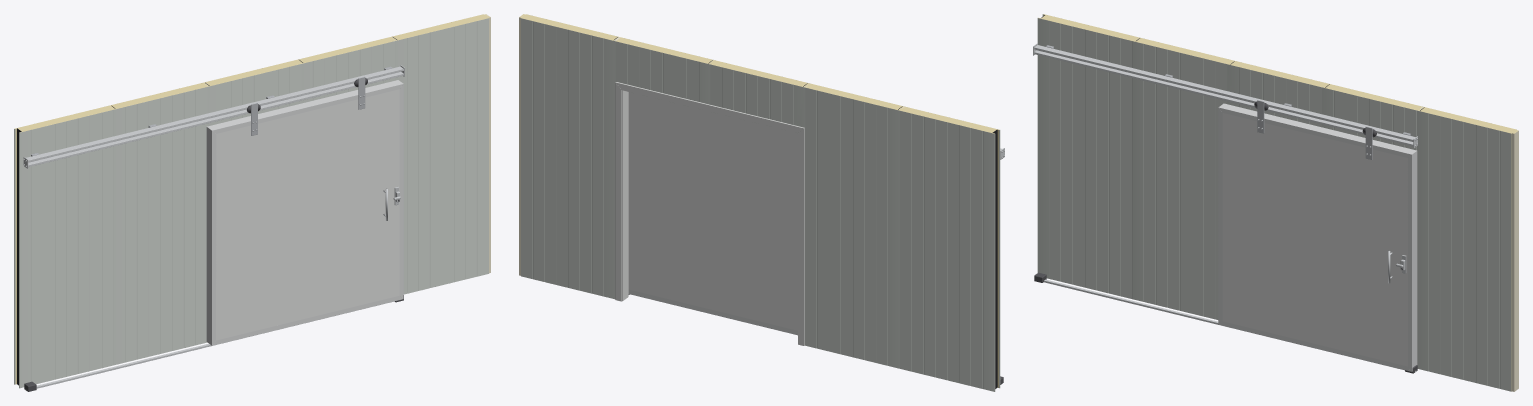
File: sliding-6x7.glb
The picture shows the model from 3 angles, left to right: view 1: azimuth 30°, elevation 25°; view 2: azimuth 150°, elevation 25°; view 3: azimuth 330°, elevation 25°; orthographic projection.
Parts seen in each view (by area): view 1: SkinF, Wall_p0_Steel_top, Wall_p1_Steel_top, Wall_p4_Steel_top, Wall_p2_Steel_top, Wall_p3_Steel_top, RailTop, RailBot, AluWebL, Wall_p0_PIR_core, AluWebT, AluF_R (+11 smaller); view 2: SkinB, Wall_p0_Steel_bottom, Wall_p4_Steel_bottom, Wall_p1_Steel_bottom, Wall_p2_Steel_bottom, Wall_p3_Steel_bottom, TrimB_R, TrimB_L, LinerR, TrimB_T, Wall_p0_PIR_core, AluB_B (+7 smaller); view 3: SkinF, Wall_p4_Steel_top, Wall_p0_Steel_top, Wall_p1_Steel_top, Wall_p2_Steel_top, Wall_p3_Steel_top, RailTop, RailBot, Wall_p4_Tongue_tape, AluWebR, AluWebT, AluF_L (+10 smaller).
Part boxes in pixels (left/top/right/bottom): SkinF: left=216, top=89, right=399, bottom=340; Wall_p0_Steel_top: left=19, top=110, right=113, bottom=388; Wall_p1_Steel_top: left=113, top=87, right=207, bottom=365; Wall_p4_Steel_top: left=395, top=18, right=488, bottom=294; Wall_p2_Steel_top: left=207, top=64, right=301, bottom=126; Wall_p3_Steel_top: left=301, top=41, right=394, bottom=103; RailTop: left=26, top=66, right=403, bottom=162; RailBot: left=28, top=72, right=403, bottom=166; AluWebL: left=206, top=127, right=212, bottom=345; Wall_p0_PIR_core: left=14, top=106, right=114, bottom=384; AluWebT: left=207, top=80, right=403, bottom=130; AluF_R: left=399, top=84, right=403, bottom=298; SkinB: left=628, top=92, right=797, bottom=330; Wall_p0_Steel_bottom: left=900, top=110, right=995, bottom=391; Wall_p4_Steel_bottom: left=521, top=18, right=615, bottom=299; Wall_p1_Steel_bottom: left=805, top=87, right=899, bottom=368; Wall_p2_Steel_bottom: left=710, top=64, right=805, bottom=345; Wall_p3_Steel_bottom: left=615, top=41, right=710, bottom=104; TrimB_R: left=615, top=82, right=622, bottom=301; TrimB_L: left=798, top=128, right=804, bottom=345; LinerR: left=622, top=90, right=628, bottom=300; TrimB_T: left=615, top=82, right=804, bottom=132; Wall_p0_PIR_core: left=898, top=106, right=999, bottom=387; AluB_B: left=628, top=289, right=797, bottom=334; SkinF: left=1222, top=113, right=1407, bottom=366; Wall_p4_Steel_top: left=1417, top=110, right=1511, bottom=391; Wall_p0_Steel_top: left=1037, top=18, right=1132, bottom=298; Wall_p1_Steel_top: left=1132, top=41, right=1227, bottom=319; Wall_p2_Steel_top: left=1227, top=64, right=1321, bottom=127; Wall_p3_Steel_top: left=1322, top=87, right=1416, bottom=150; RailTop: left=1034, top=45, right=1415, bottom=141; RailBot: left=1034, top=50, right=1413, bottom=146; Wall_p4_Tongue_tape: left=1512, top=130, right=1518, bottom=391; AluWebR: left=1411, top=151, right=1417, bottom=371; AluWebT: left=1219, top=103, right=1416, bottom=154; AluF_L: left=1218, top=108, right=1222, bottom=323.
Bounding box in the file's own units: 5.02 × 2.6 × 0.302.
